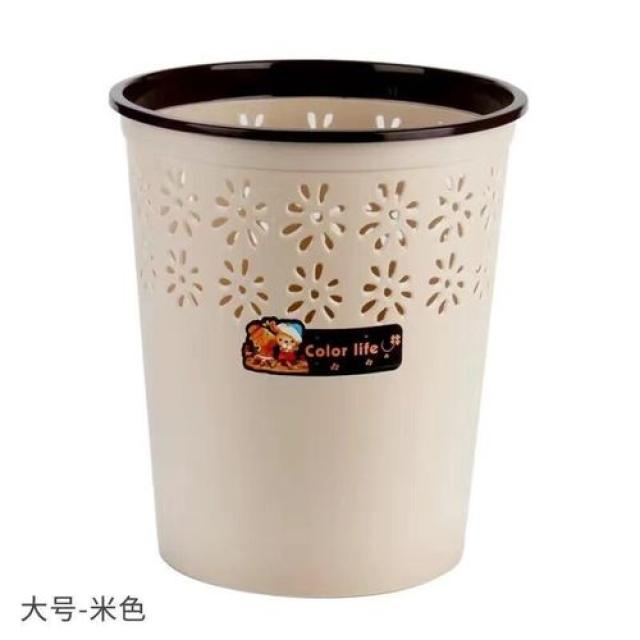dustbin: (105, 46, 540, 606)
